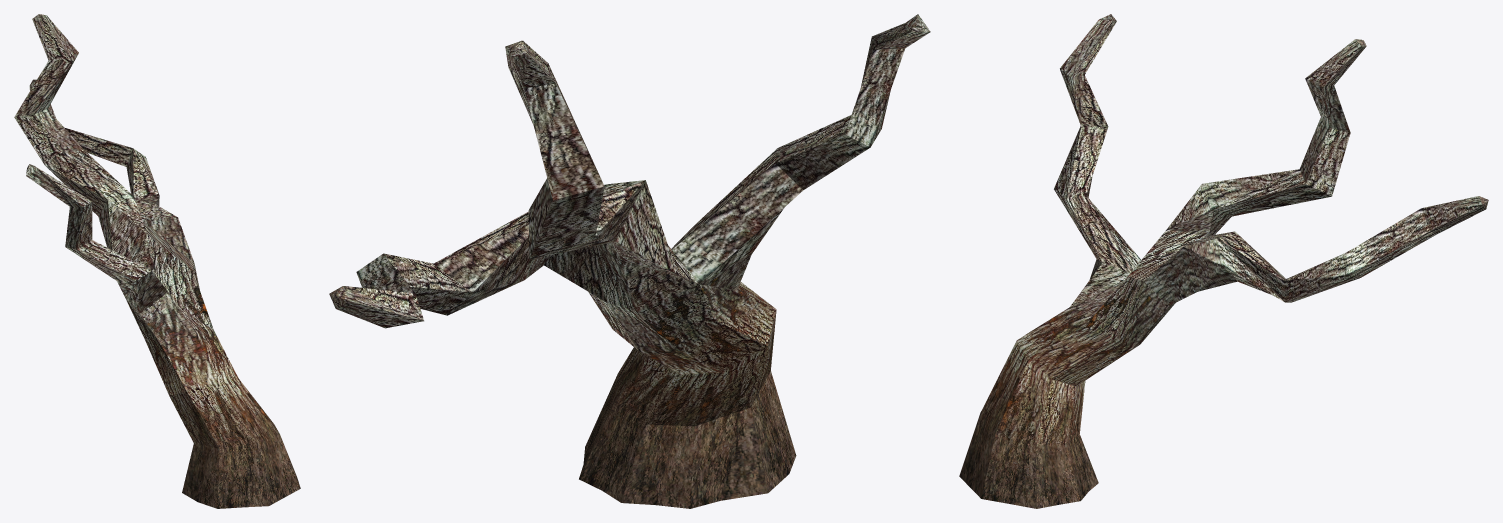
Rendered from hr_tree3.glb.
The picture shows the model from 3 angles, left to right: view 1: azimuth 30°, elevation 25°; view 2: azimuth 150°, elevation 25°; view 3: azimuth 270°, elevation 25°; orthographic projection. The views are drawn at different scales.
Parts seen in each view (by area): view 1: hr_tree3-col; view 2: hr_tree3-col; view 3: hr_tree3-col.
Boxes of the visible parts, left/top/right/bottom form: hr_tree3-col: left=14, top=14, right=300, bottom=508; hr_tree3-col: left=329, top=14, right=930, bottom=508; hr_tree3-col: left=959, top=14, right=1488, bottom=508.
Size of the model in its own units: 9.48 by 14.33 by 16.64.
3 materials, 3 textured.
